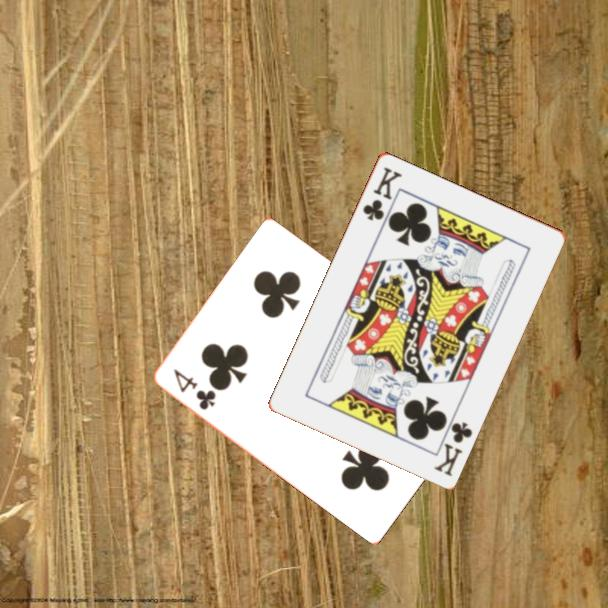c04: (170, 365, 219, 413)
c13: (359, 163, 405, 223), (430, 418, 475, 479)
